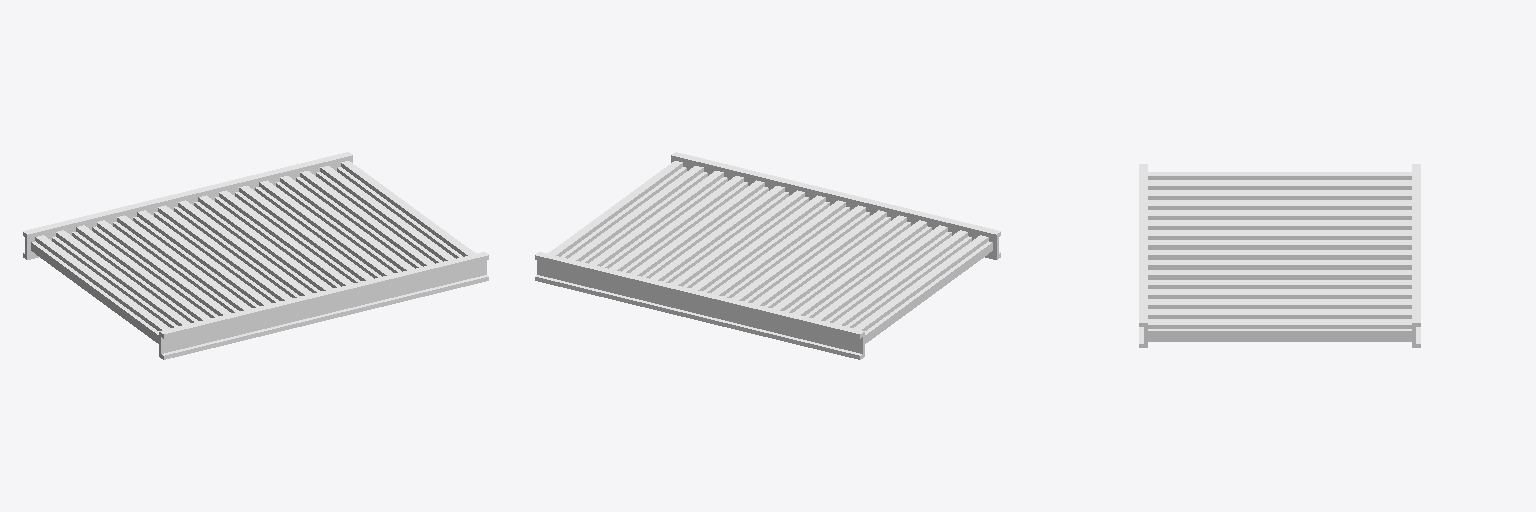
File: conveyor.obj
3 renders of one model, left to right at view 1: azimuth 30°, elevation 25°; view 2: azimuth 150°, elevation 25°; view 3: azimuth 270°, elevation 25°, orthographic.
Visible parts, largest first — view 1: object 1; view 2: object 1; view 3: object 1.
Boxes of the visible parts, x1=… form: object 1: x1=23, y1=152, x2=488, y2=359; object 1: x1=535, y1=152, x2=1000, y2=359; object 1: x1=1139, y1=164, x2=1420, y2=347.
Size of the model in its own units: 8 by 0.6 by 6.